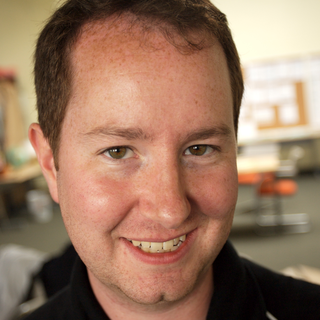eye: (90, 139, 143, 166), (178, 139, 223, 164)
